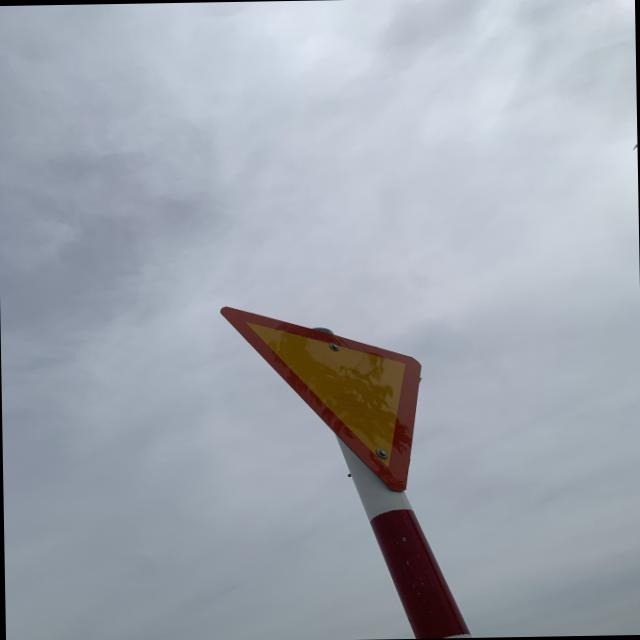Gioi_Han_Toc_Do_25: (219, 303, 423, 493)
